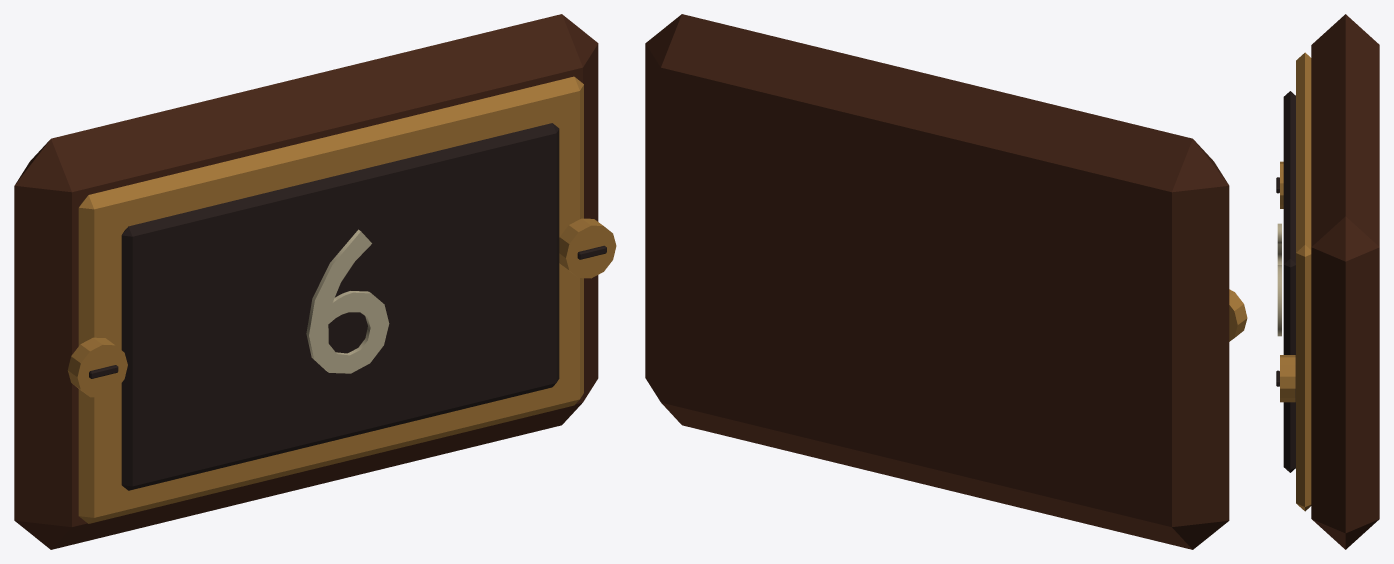
File: RoomPlaque_06.glb
The picture shows the model from 3 angles, left to right: view 1: azimuth 30°, elevation 25°; view 2: azimuth 150°, elevation 25°; view 3: azimuth 270°, elevation 25°; orthographic projection. The views are drawn at different scales.
Parts seen in each view (by area): view 1: DarkEnamel.005, OakPlaque.005, BrassInset.005, RoomNumber.005, BrassScrew.012, BrassScrew.013; view 2: OakPlaque.005; view 3: OakPlaque.005, BrassInset.005, DarkEnamel.005, BrassScrew.013, RoomNumber.005, BrassScrew.012.
Part boxes in pixels (x1,y1,x2,y2): DarkEnamel.005: (121, 123, 559, 490); OakPlaque.005: (14, 14, 598, 549); BrassInset.005: (78, 76, 583, 523); RoomNumber.005: (306, 229, 389, 373); BrassScrew.012: (67, 337, 127, 397); BrassScrew.013: (559, 218, 616, 278); OakPlaque.005: (645, 14, 1229, 549); OakPlaque.005: (1311, 14, 1379, 549); BrassInset.005: (1296, 52, 1311, 511); DarkEnamel.005: (1283, 91, 1295, 472); BrassScrew.013: (1280, 355, 1295, 402); RoomNumber.005: (1277, 223, 1281, 336); BrassScrew.012: (1280, 161, 1283, 208).
Bounding box in the file's own units: 1.04 × 0.7 × 0.197.
